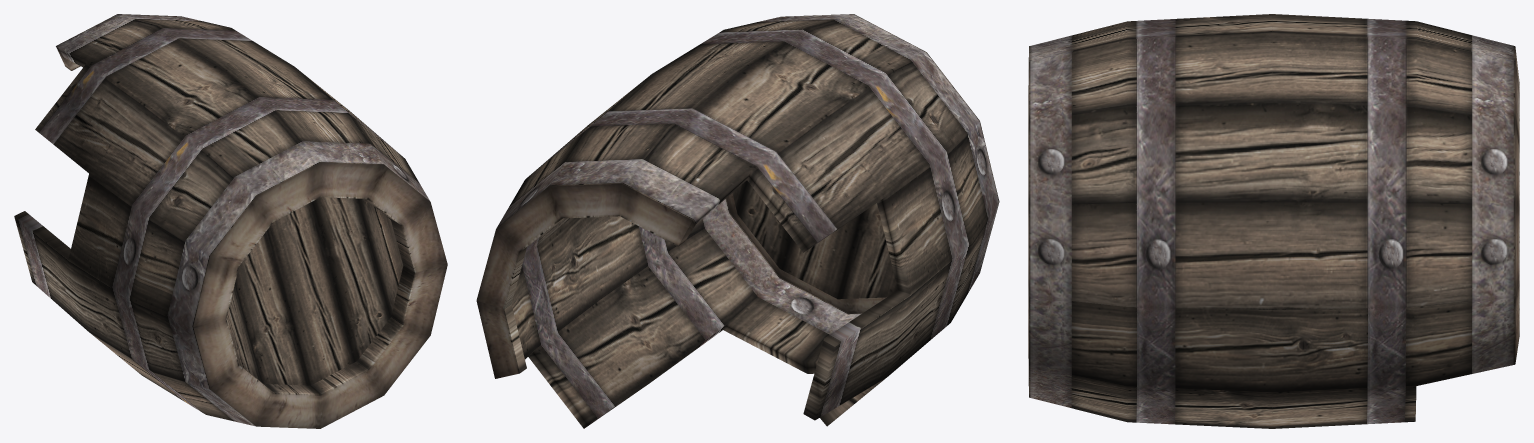
The model's file is Barrel_a_broken.fbx.
The picture shows the model from 3 angles, left to right: view 1: azimuth 30°, elevation 25°; view 2: azimuth 150°, elevation 25°; view 3: azimuth 270°, elevation 25°; orthographic projection. The views are drawn at different scales.
Visible parts, largest first — view 1: Barrel_a_broken; view 2: Barrel_a_broken; view 3: Barrel_a_broken.
Part boxes in pixels (x1,y1,x2,y2): Barrel_a_broken: [14, 14, 447, 428]; Barrel_a_broken: [476, 14, 999, 428]; Barrel_a_broken: [1028, 14, 1519, 428].
Size of the model in its own units: 76.34 by 74.96 by 89.84.
